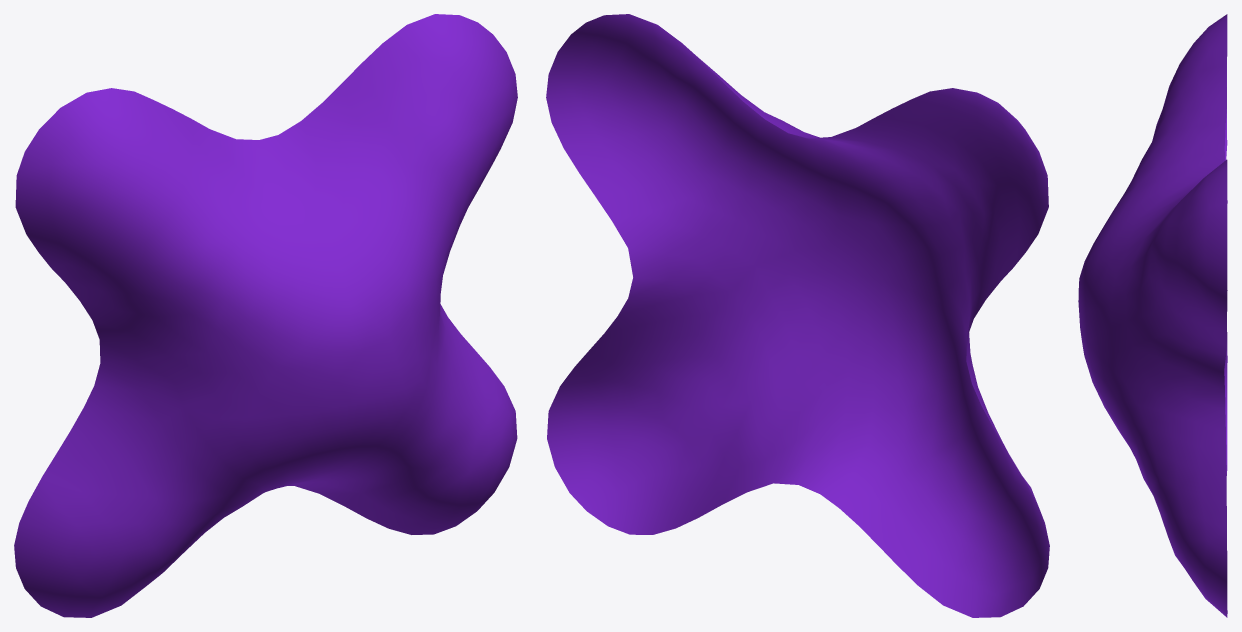
Rendered from star1.obj.
The picture shows the model from 3 angles, left to right: view 1: azimuth 30°, elevation 25°; view 2: azimuth 150°, elevation 25°; view 3: azimuth 270°, elevation 25°; orthographic projection. The views are drawn at different scales.
Bounding box in the file's own units: 16.06 × 16.04 × 4.83.
